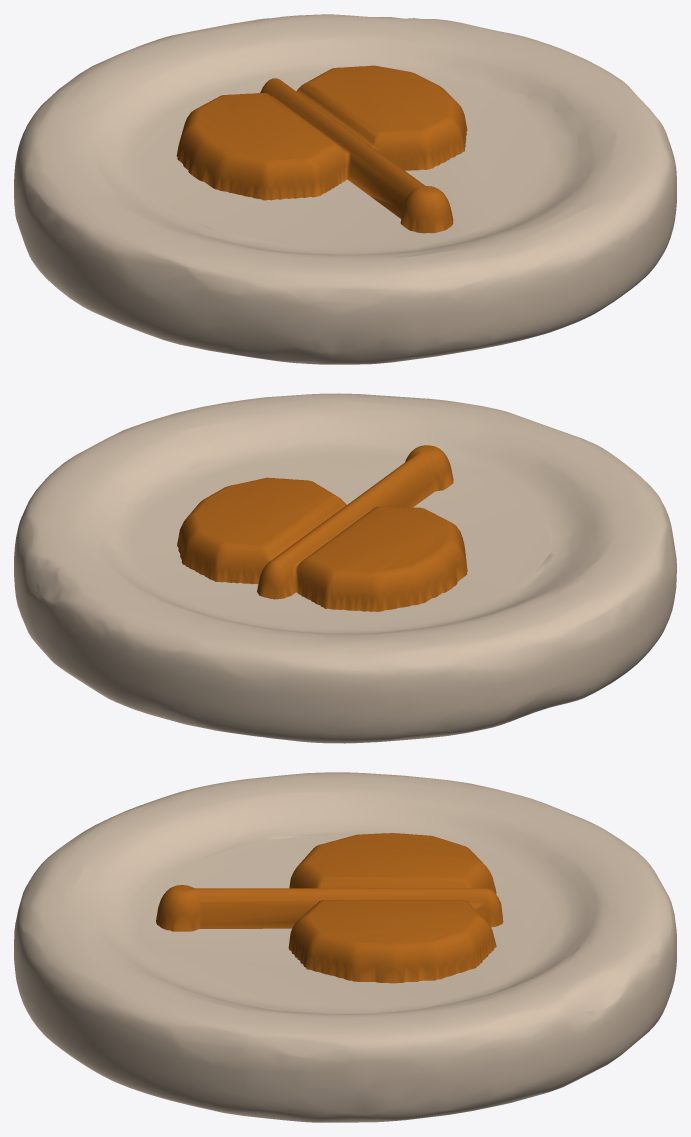
The model's file is token-barbarian-red.glb.
3 renders of one model, top to bottom at view 1: azimuth 30°, elevation 25°; view 2: azimuth 150°, elevation 25°; view 3: azimuth 270°, elevation 25°, orthographic.
Parts seen in each view (by area): view 1: token_barbarian_red; view 2: token_barbarian_red; view 3: token_barbarian_red.
Boxes of the visible parts, x1=… form: token_barbarian_red: x1=14, y1=14, x2=676, y2=364; token_barbarian_red: x1=14, y1=393, x2=676, y2=743; token_barbarian_red: x1=14, y1=772, x2=676, y2=1122.
Size of the model in its own units: 0.414 by 0.0722 by 0.4142.
